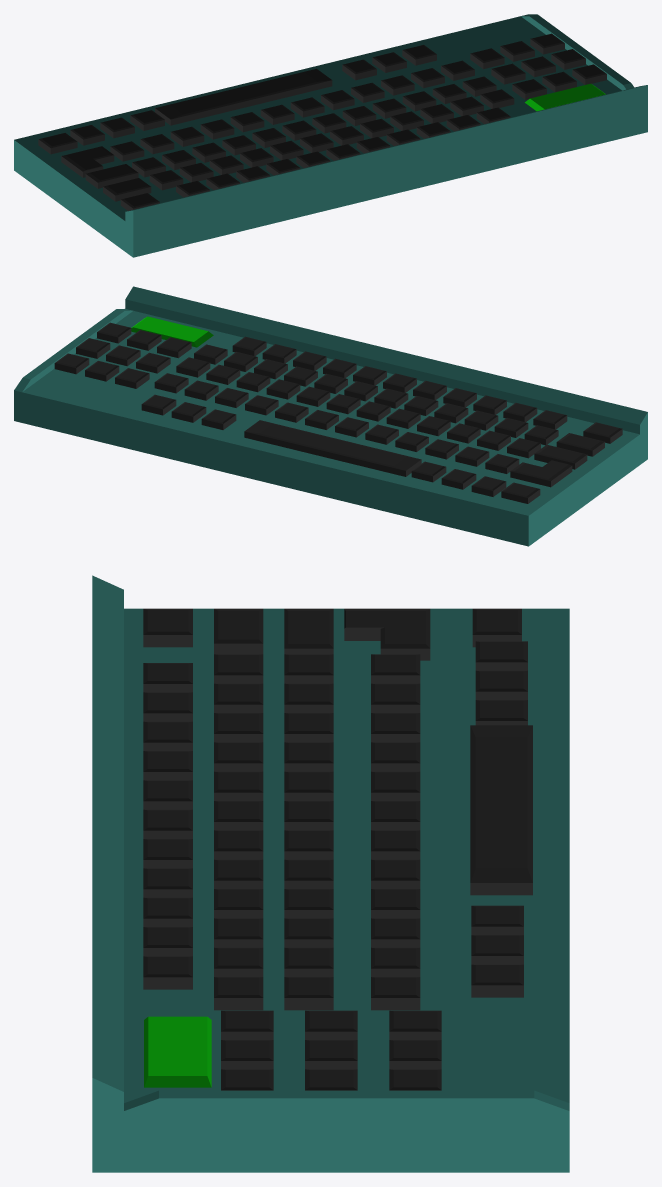
File: Keyboard 4.fbx
The picture shows the model from 3 angles, top to bottom: view 1: azimuth 30°, elevation 25°; view 2: azimuth 150°, elevation 25°; view 3: azimuth 270°, elevation 25°; orthographic projection. The views are drawn at different scales.
Parts seen in each view (by area): view 1: Node 0; view 2: Node 0; view 3: Node 0.
Part boxes in pixels (left/top/right/bottom): Node 0: left=14, top=14, right=647, bottom=257; Node 0: left=14, top=286, right=647, bottom=546; Node 0: left=92, top=575, right=569, bottom=1172.
Size of the model in its own units: 0.1702 by 0.0373 by 0.4241.
